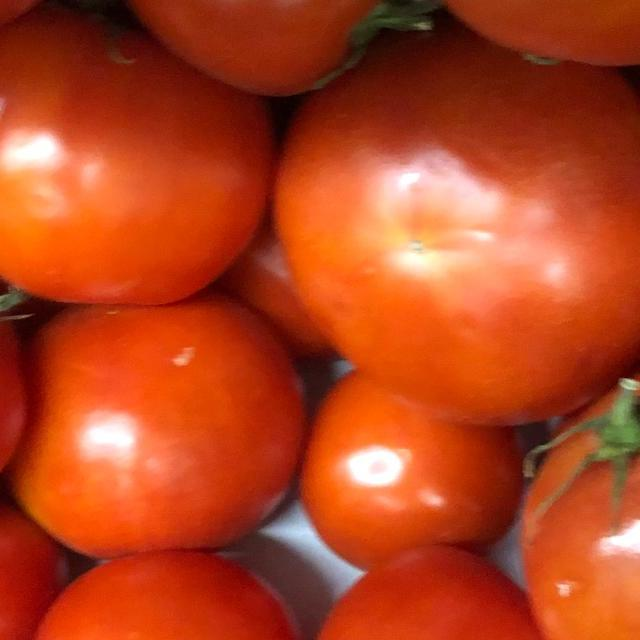tomato: (0, 270, 320, 567), (507, 322, 640, 640), (10, 535, 315, 640)
